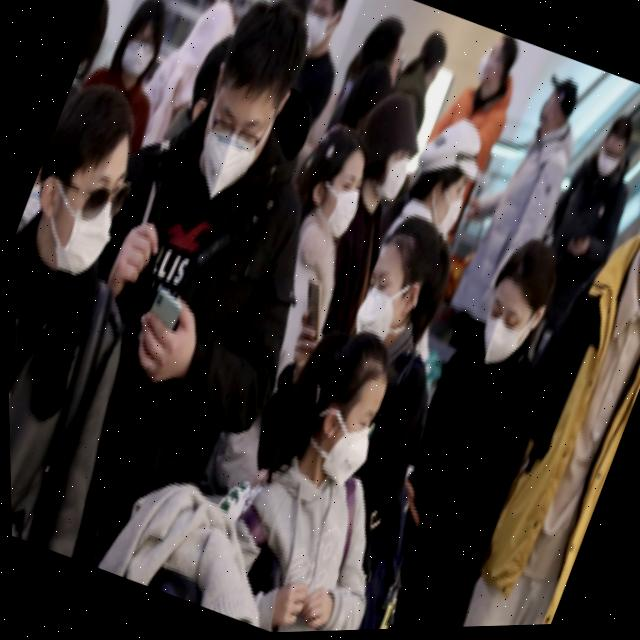Mask: (173, 56, 297, 216), (11, 160, 132, 287), (464, 278, 550, 382), (340, 263, 428, 362), (299, 399, 378, 494), (292, 153, 370, 244), (361, 137, 422, 216), (411, 168, 476, 241), (290, 0, 349, 62), (111, 25, 164, 89), (466, 43, 511, 101), (588, 134, 633, 184), (532, 89, 572, 140), (625, 192, 640, 291)
